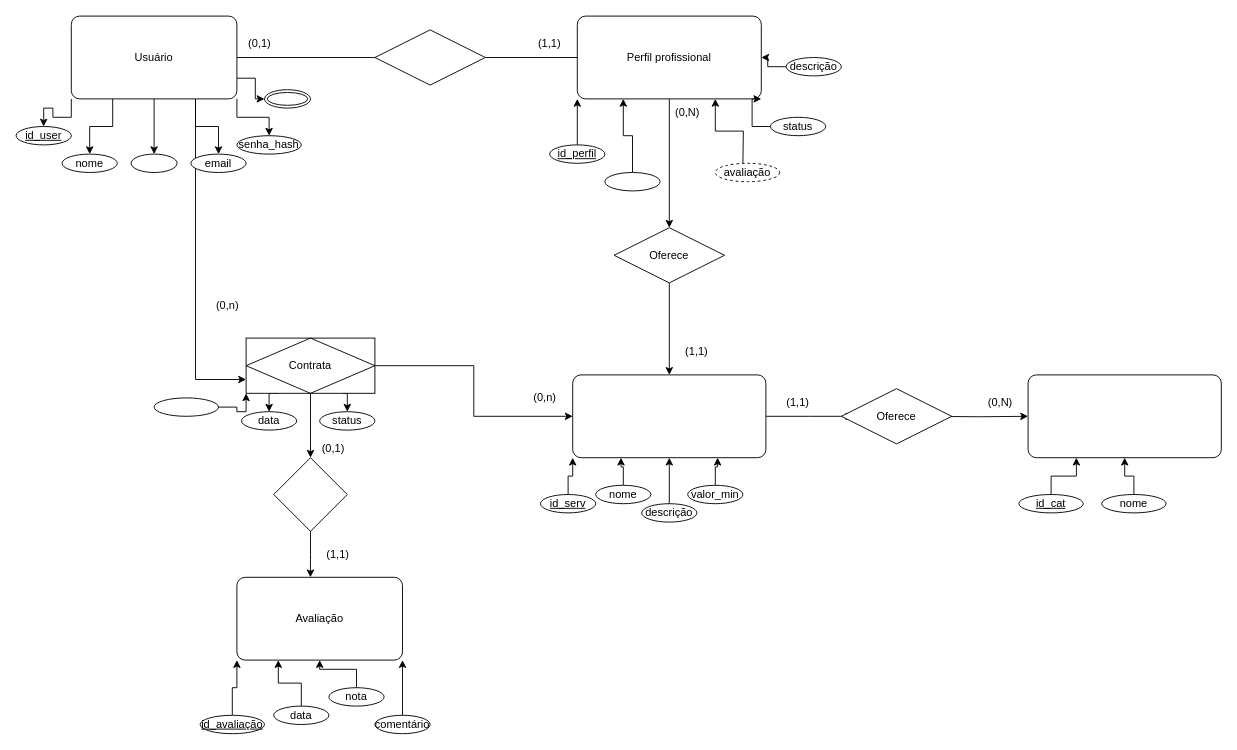
The diagram is 1237 pixels wide and 750 high, and some of its shapes have lost their labels. Each missing label, with the centre of its shape:
"Categoria" goes at [1124,416].
"cpf" goes at [153,162].
"Gera" goes at [310,494].
"id_contrata" goes at [185,406].
"nome_perf" goes at [632,181].
"Possui" goes at [429,57].
"Serviço" goes at [669,416].
"tel" goes at [287,98].
